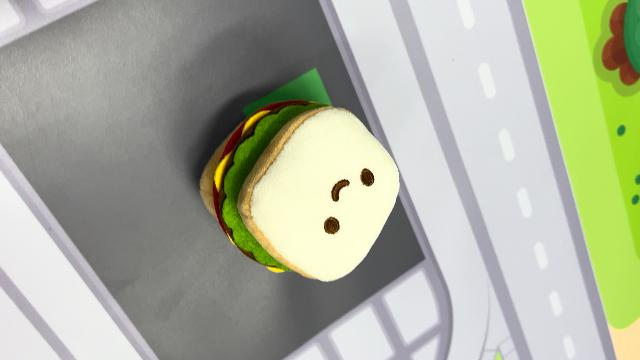sandwich: (197, 94, 403, 284)
